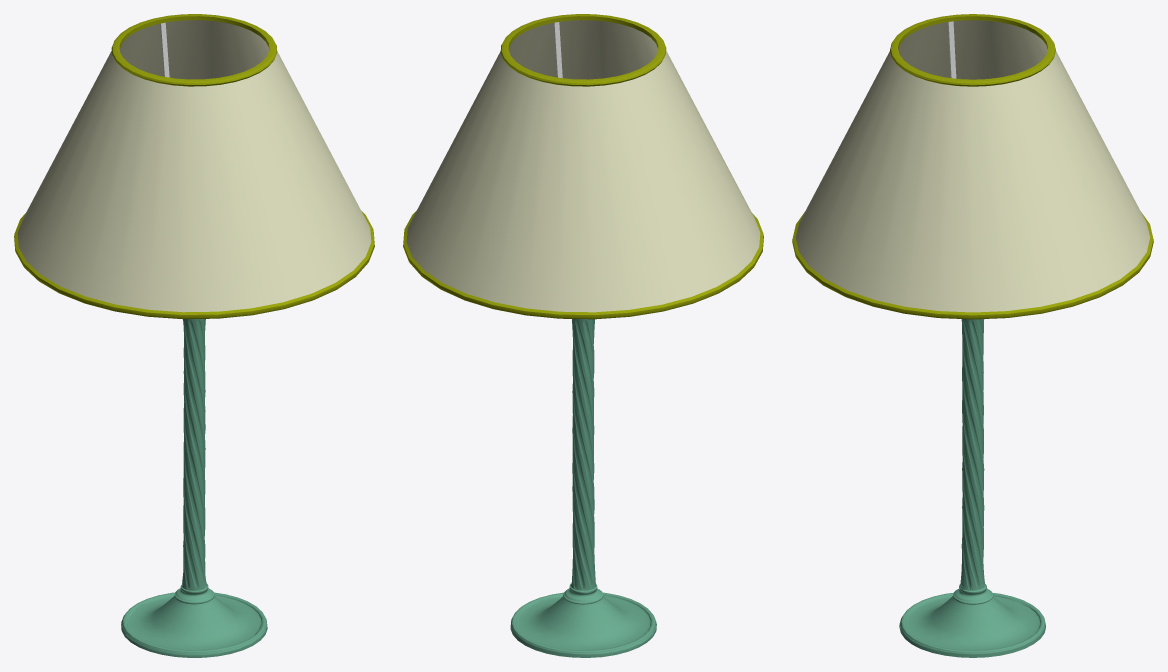
The model's file is sh_scopia_little_lamp3.glb.
3 views of the same model, side by side, from view 1: azimuth 30°, elevation 25°; view 2: azimuth 150°, elevation 25°; view 3: azimuth 270°, elevation 25° (orthographic).
Size of what is drawn, in the model's own units: 0.41 by 0.728 by 0.41.
